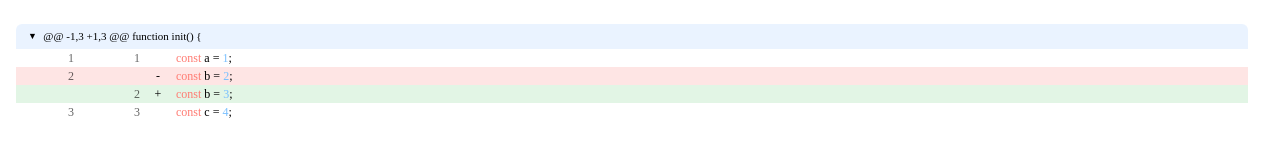
Test case: Enter, Shift+Enter, and ⌘G step through matches and wrap around
Expected: the button "▼ @@ -1,3 +1,3 @@ function init() {" is shown, [16,24,1248,49]
Type keys "{Meta>}f{/Meta}"
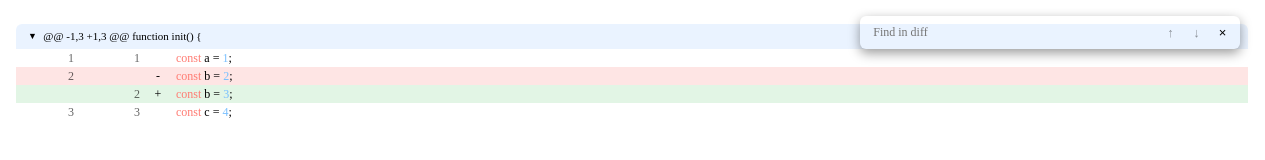
In the field labelled "Find in diff": coordinates (973, 32) [867,21,1080,44], type "const"
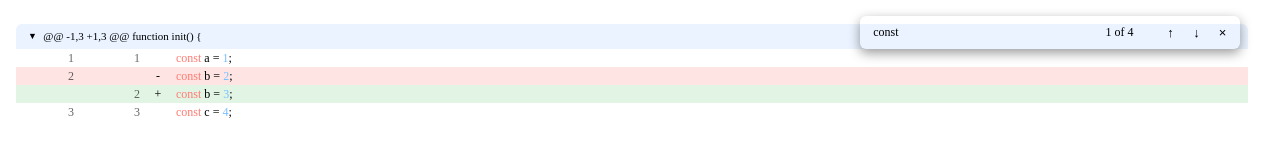
Expected: the text "1 of 4" is shown, [1106,25,1134,39]
Press Enter
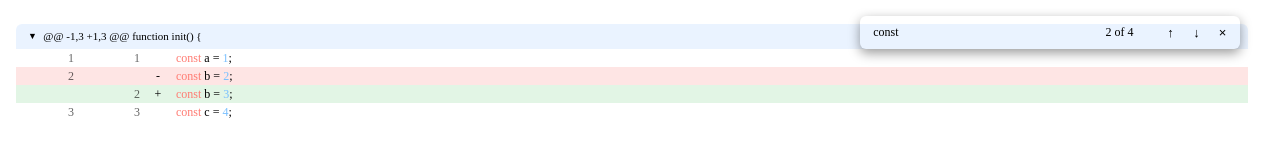
Expected: the text "2 of 4" is shown, [1106,25,1134,39]
Type keys "{Shift>}{Enter}{Enter}{/Shift}"
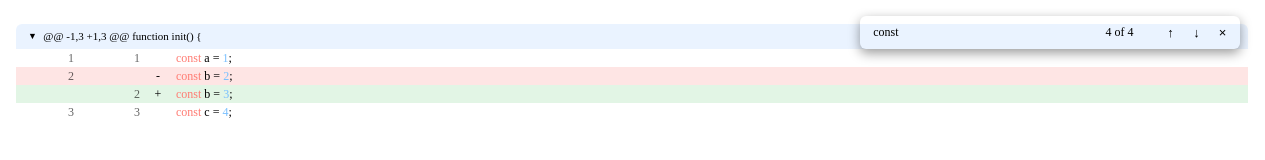
Expected: the text "4 of 4" is shown, [1106,25,1134,39]
Type keys "{Meta>}g{/Meta}"
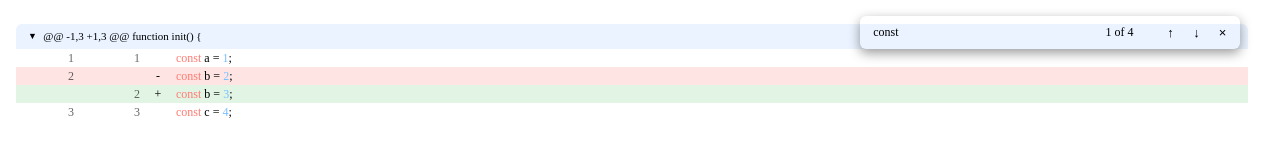
Expected: the text "1 of 4" is shown, [1106,25,1134,39]
Click the button named "Previous match": coordinates (1171, 32) [1160,21,1182,43]
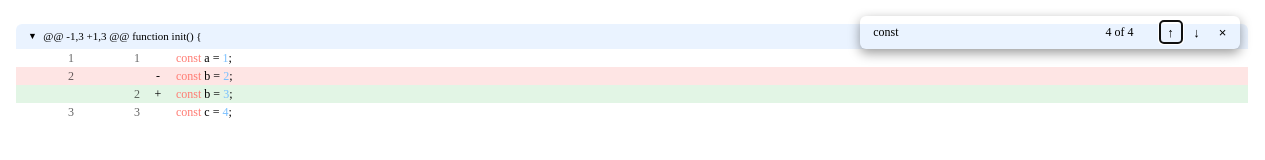
Expected: the text "4 of 4" is shown, [1106,25,1134,39]
